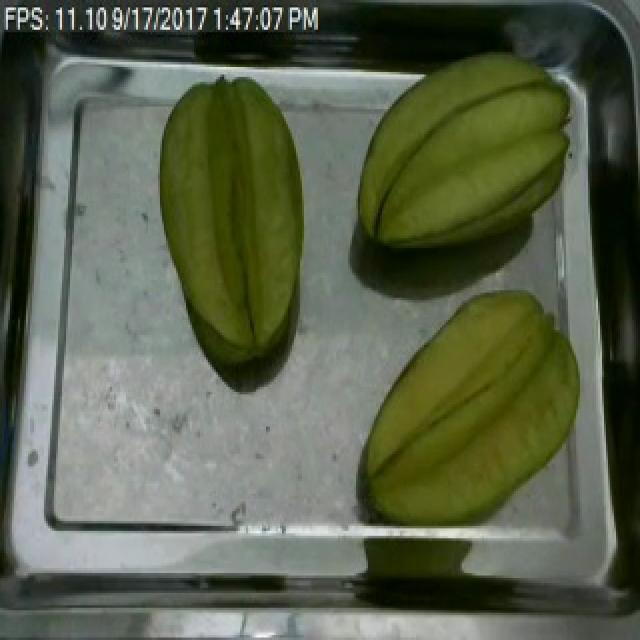fruit: (346, 273, 598, 538), (146, 70, 324, 380), (342, 42, 582, 261)
